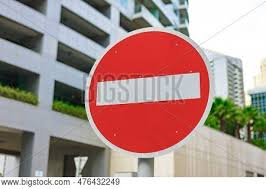No entry: (85, 28, 214, 158)
